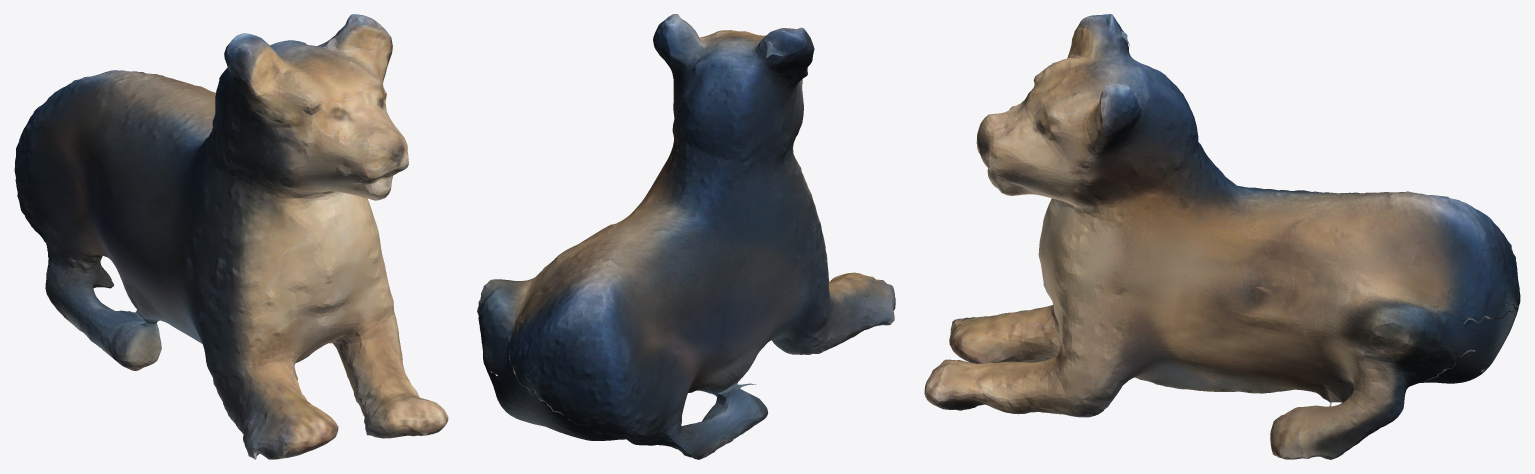
3 views of the same model, side by side, from view 1: azimuth 30°, elevation 25°; view 2: azimuth 150°, elevation 25°; view 3: azimuth 270°, elevation 25° (orthographic). The views are drawn at different scales.
Visible parts, largest first — view 1: Mesh_0.103; view 2: Mesh_0.103; view 3: Mesh_0.103.
Boxes of the visible parts, left/top/right/bottom form: Mesh_0.103: left=14, top=14, right=448, bottom=459; Mesh_0.103: left=477, top=14, right=895, bottom=459; Mesh_0.103: left=924, top=14, right=1520, bottom=459.
Bounding box in the file's own units: 0.8666 × 1.2 × 1.78.
1 material, 1 textured.
